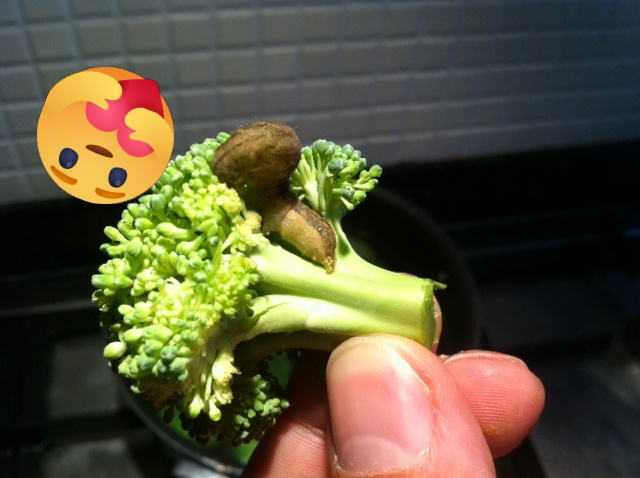care: (37, 67, 174, 204)
